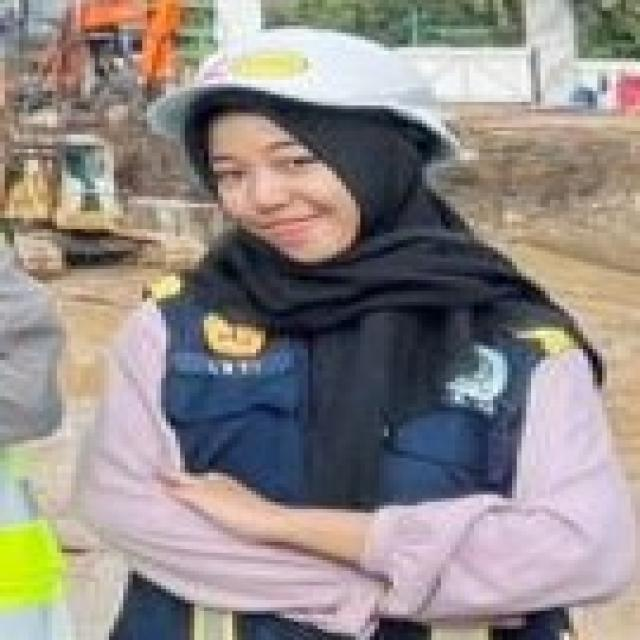safetyhelmet: (159, 23, 475, 267)
